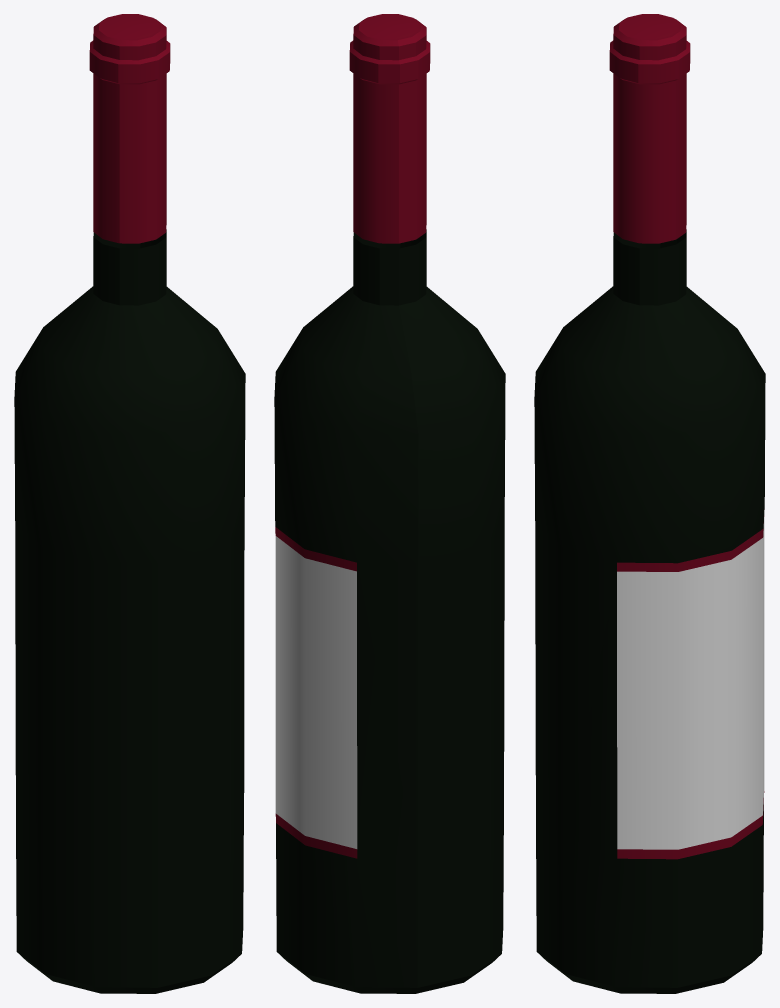
File: mirror bottle.glb
3 views of the same model, side by side, from view 1: azimuth 30°, elevation 25°; view 2: azimuth 150°, elevation 25°; view 3: azimuth 270°, elevation 25° (orthographic).
Parts seen in each view (by area): view 1: Object_1.001; view 2: Object_1.001; view 3: Object_1.001.
Part boxes in pixels (x1,y1,x2,y2): Object_1.001: [14, 14, 245, 993]; Object_1.001: [274, 14, 505, 993]; Object_1.001: [534, 14, 765, 993].
Bounding box in the file's own units: 0.0387 × 0.1711 × 0.0387.
